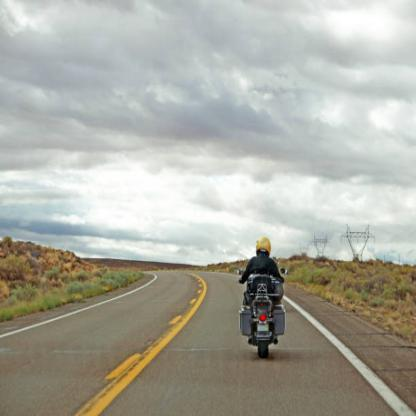Motorcycle: (237, 261, 287, 362)
